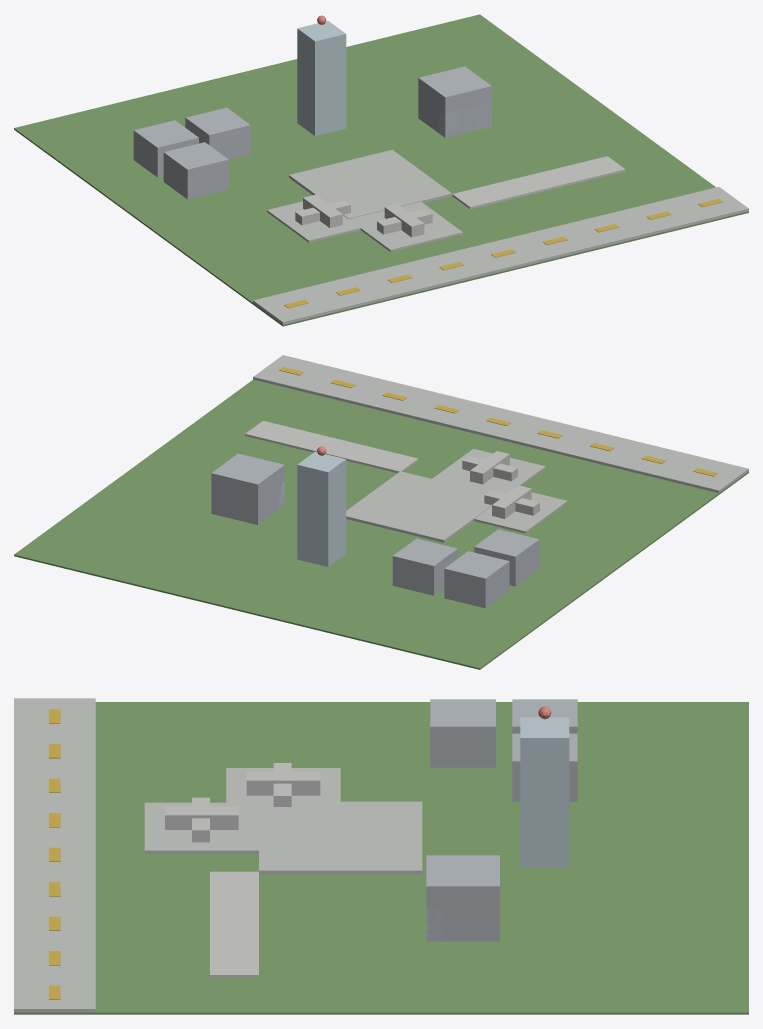
File: stage_09.glb
3 views of the same model, one above another, from view 1: azimuth 30°, elevation 25°; view 2: azimuth 150°, elevation 25°; view 3: azimuth 270°, elevation 25° (orthographic). The views are drawn at different scales.
Parts seen in each view (by area): view 1: geometry_0; view 2: geometry_0; view 3: geometry_0.
Part boxes in pixels (x1=…): geometry_0: x1=14, y1=14, x2=748, y2=326; geometry_0: x1=14, y1=355, x2=748, y2=669; geometry_0: x1=14, y1=698, x2=748, y2=1014.
Size of the model in its own units: 9 by 2.06 by 9.
